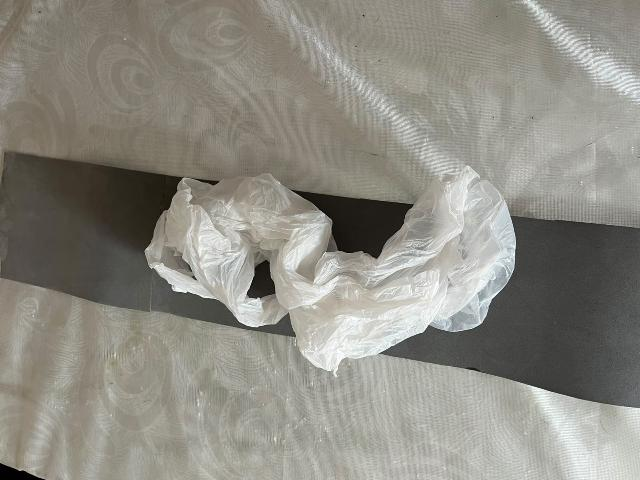LDPE: (124, 118, 561, 451)
